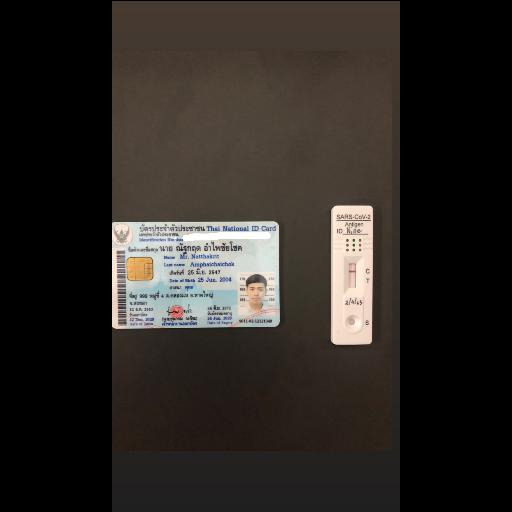Neg: (331, 207, 371, 345)
